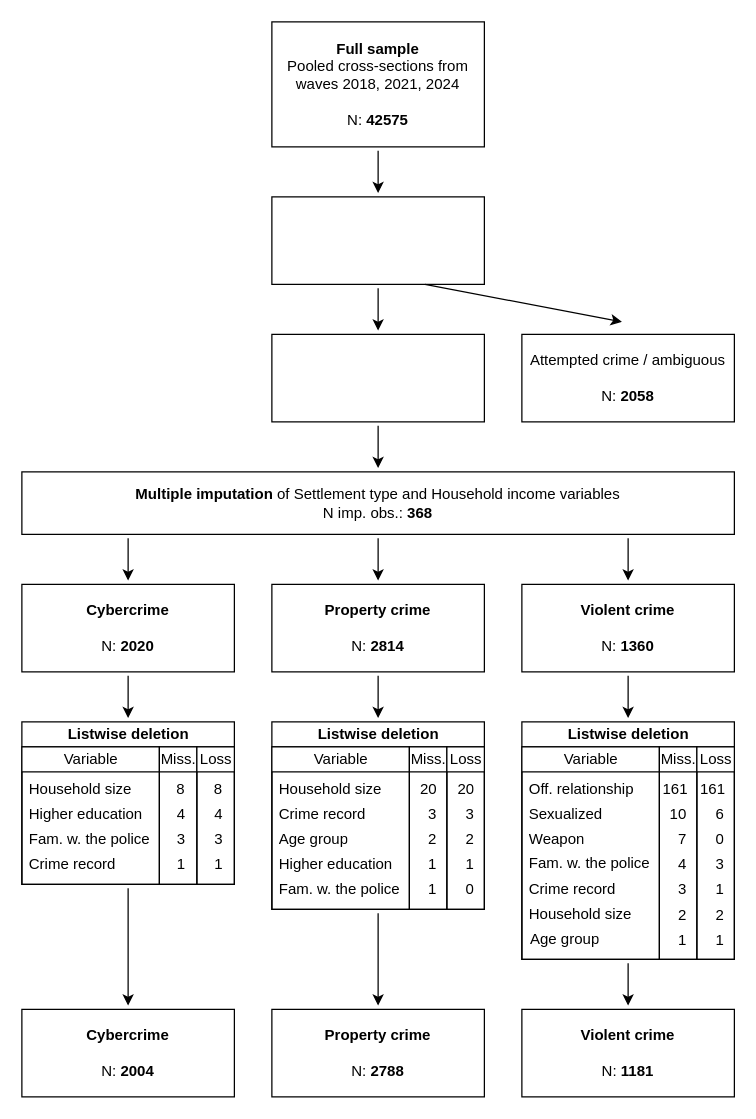
The diagram is 756 pixels wide and 1119 high, and some of its shapes have lost their labels. The box of each missing label's shape, as (x1, y1, x2, y2) in pixels:
Crime class defined N: 6194: (271, 333, 484, 422)
Victims only N: 8252: (271, 196, 484, 284)
